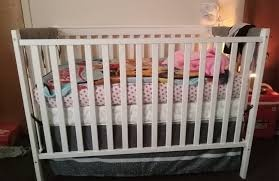crib: (12, 26, 268, 179)
